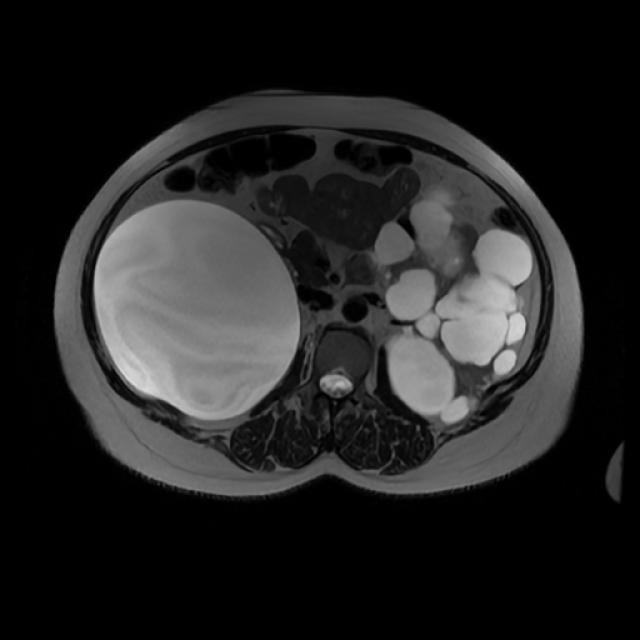sag: (94, 200, 302, 420)
sol: (378, 185, 533, 420)
